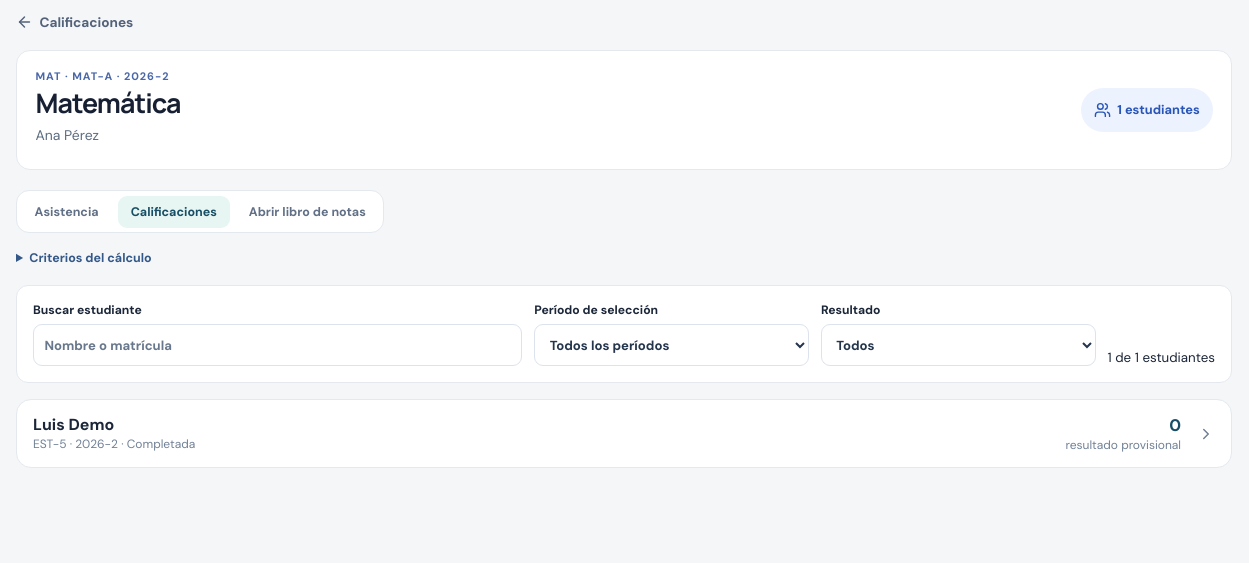
Test case: distinguishes weighted contributions, drafts and annulled history
expect the text "Luis Demo" is shown: met, box 33,414 -> 114,435
In the field labelled "Buscar estudiante": coordinates (278, 345) 33,324 -> 522,366, type "Eva"
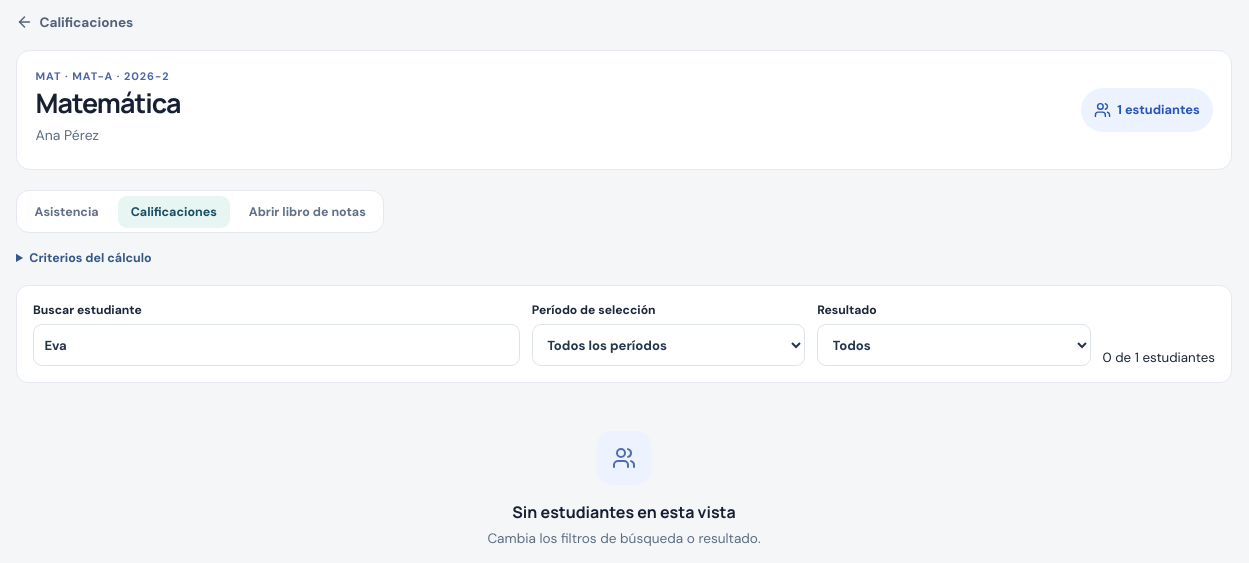
expect the heading "Sin estudiantes en esta vista" is shown: met, box 512,501 -> 736,523
